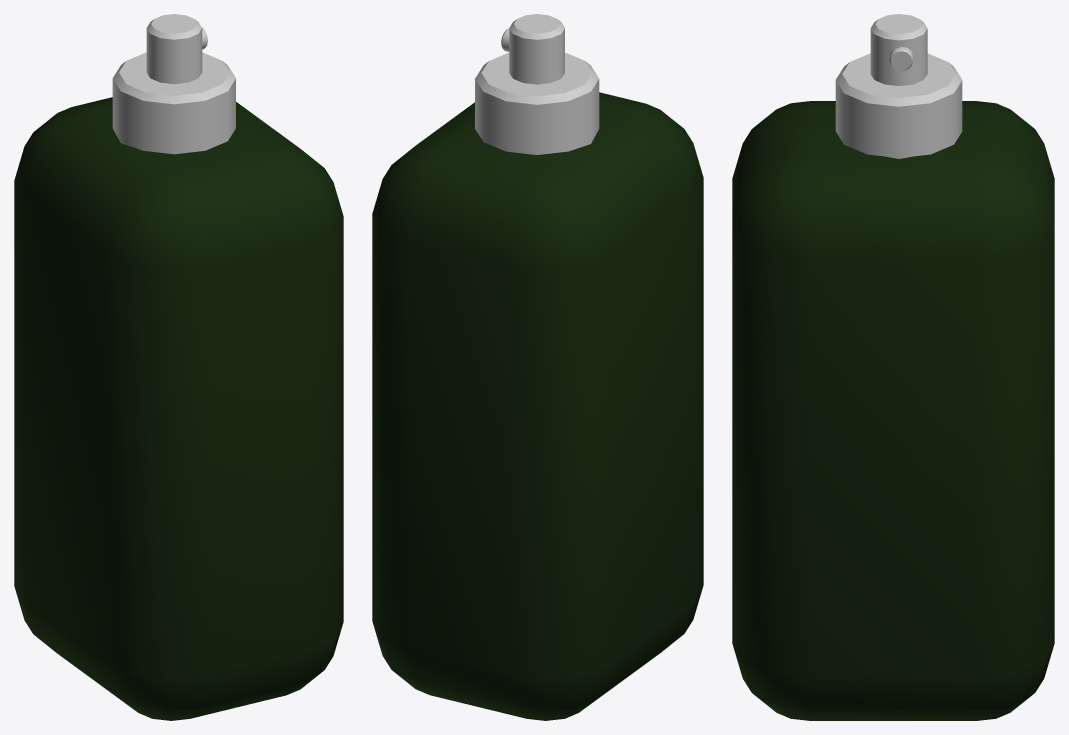
Rendered from Repelente.fbx.
The picture shows the model from 3 angles, left to right: view 1: azimuth 30°, elevation 25°; view 2: azimuth 150°, elevation 25°; view 3: azimuth 270°, elevation 25°; orthographic projection. The views are drawn at different scales.
Parts seen in each view (by area): view 1: Repelente; view 2: Repelente; view 3: Repelente.
Part boxes in pixels (x1,y1,x2,y2): Repelente: [14, 14, 343, 720]; Repelente: [372, 14, 703, 720]; Repelente: [732, 14, 1054, 720].
Bounding box in the file's own units: 7.5 × 20.36 × 8.95.
